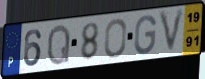6: (23, 28, 43, 68)
8: (79, 21, 100, 61)
G: (133, 14, 158, 57)
O: (103, 17, 128, 60)
Q: (46, 23, 72, 67)
V: (157, 6, 187, 57)
